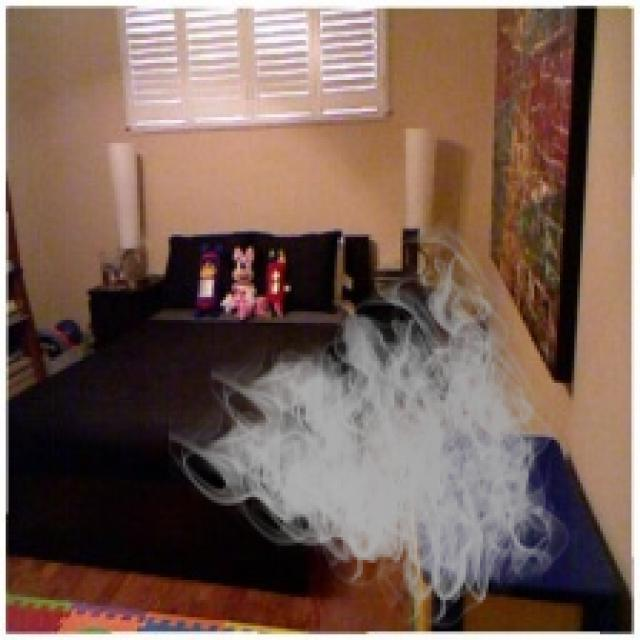Smoke: (168, 220, 583, 637)
